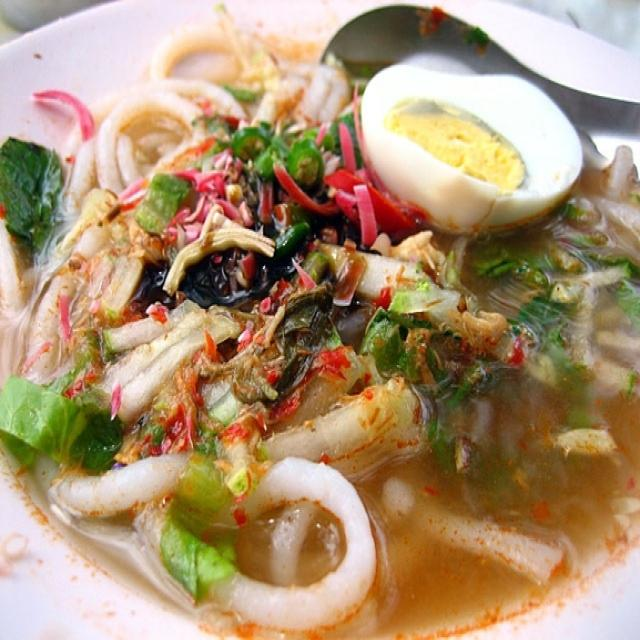面条主食: (18, 13, 631, 612)
